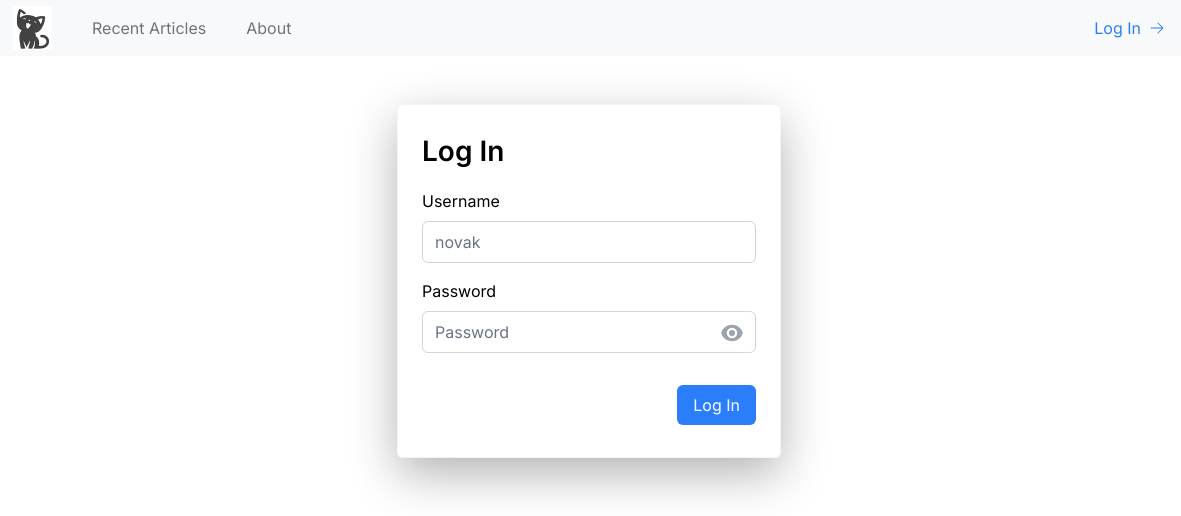
Test: Login › should show an error message for incorrect credentials
Step 1. Type "wrongusername" into the field named "username" → (589, 242), box [422, 221, 756, 263]
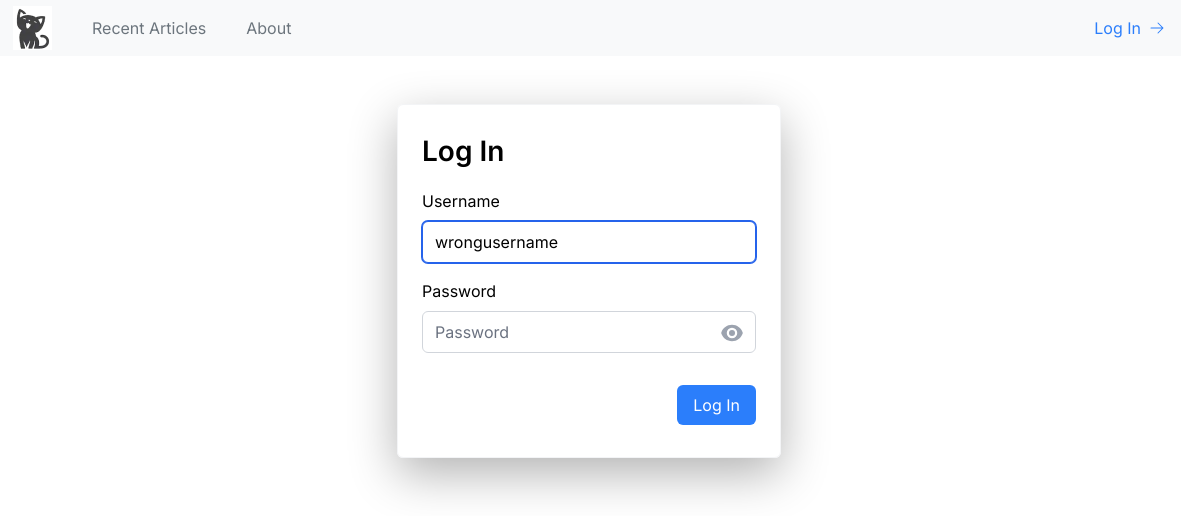
Step 2. Type "wrongpassword" into the password field named "password" → (589, 332), box [422, 311, 756, 353]
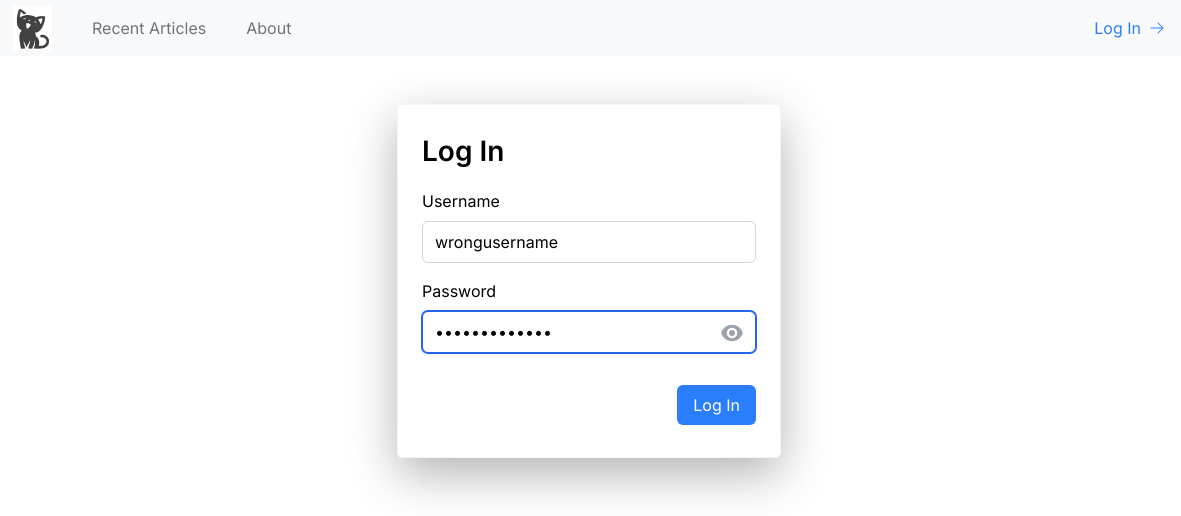
Step 3. Click the submit button → (717, 405), box [677, 385, 756, 425]
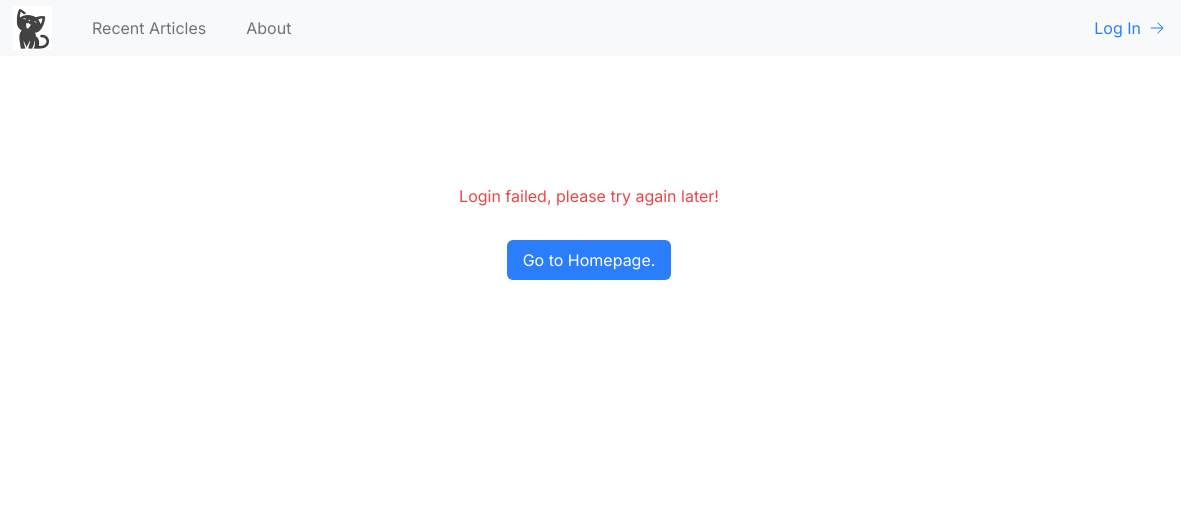
Result: the text "Login failed, please try again later!" is shown at [459, 184, 719, 208]
